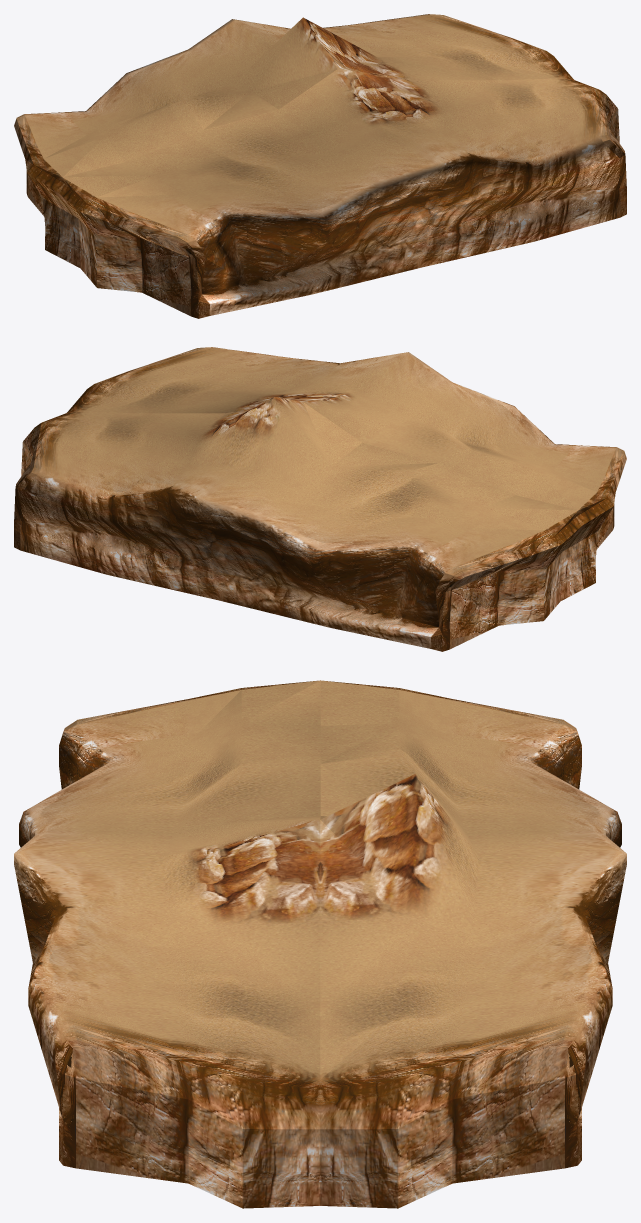
File: grounddesrock_closed.FBX
The picture shows the model from 3 angles, top to bottom: view 1: azimuth 30°, elevation 25°; view 2: azimuth 150°, elevation 25°; view 3: azimuth 270°, elevation 25°; orthographic projection. The views are drawn at different scales.
Visible parts, largest first — view 1: Plane003; view 2: Plane003; view 3: Plane003.
Boxes of the visible parts, box(x1,y1,x2,y2) form: Plane003: box(14, 14, 626, 318); Plane003: box(14, 347, 626, 651); Plane003: box(14, 680, 626, 1208).
Size of the model in its own units: 3624 by 1062 by 2380.
